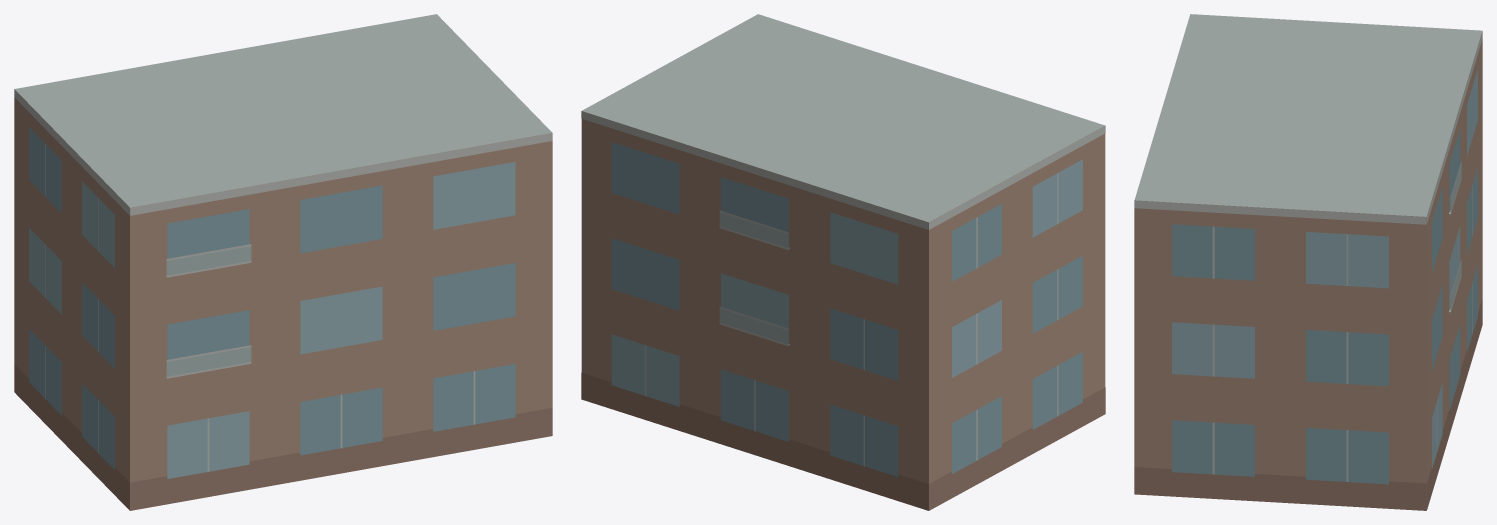
The model's file is survey-upis-32687664.glb.
The picture shows the model from 3 angles, left to right: view 1: azimuth 30°, elevation 25°; view 2: azimuth 150°, elevation 25°; view 3: azimuth 270°, elevation 25°; orthographic projection. The views are drawn at different scales.
Visible parts, largest first — view 1: survey-upis-32687664.tmp; view 2: survey-upis-32687664.tmp; view 3: survey-upis-32687664.tmp.
Part boxes in pixels (bbox=[...]): survey-upis-32687664.tmp: bbox=[14, 14, 552, 510]; survey-upis-32687664.tmp: bbox=[581, 14, 1105, 510]; survey-upis-32687664.tmp: bbox=[1134, 14, 1482, 510].
Size of the model in its own units: 13.55 by 9.15 by 9.83.
